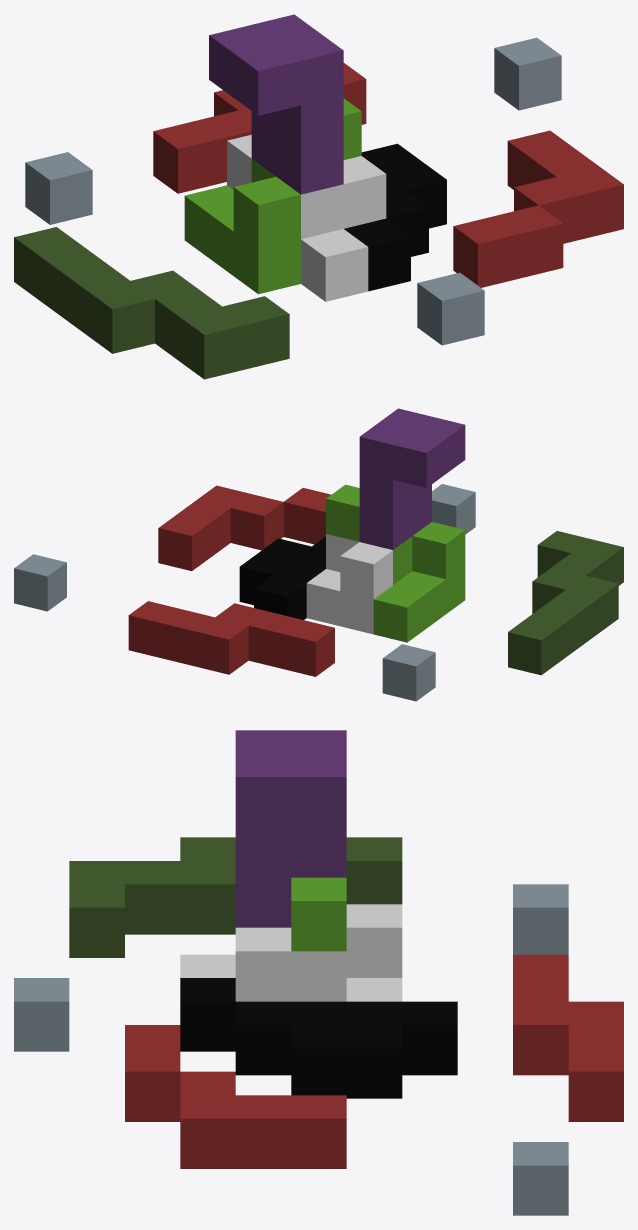
Rendered from monument.obj.
3 renders of one model, top to bottom at view 1: azimuth 30°, elevation 25°; view 2: azimuth 150°, elevation 25°; view 3: azimuth 270°, elevation 25°, orthographic. The views are drawn at different scales.
Bounding box in the file's own units: 14 × 5 × 11.
